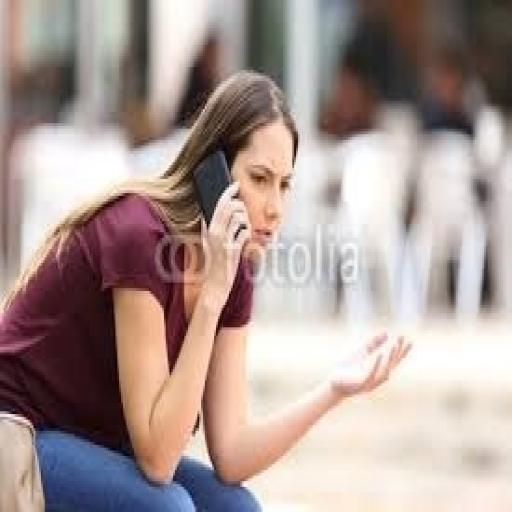calling: (0, 67, 413, 509)
